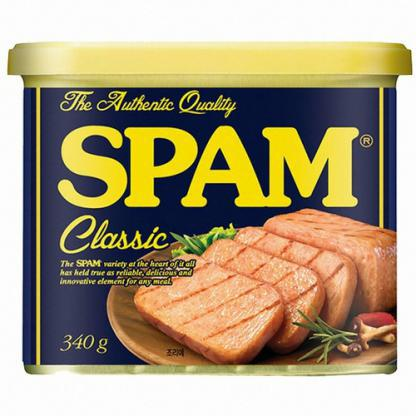spam: (8, 38, 406, 380)
